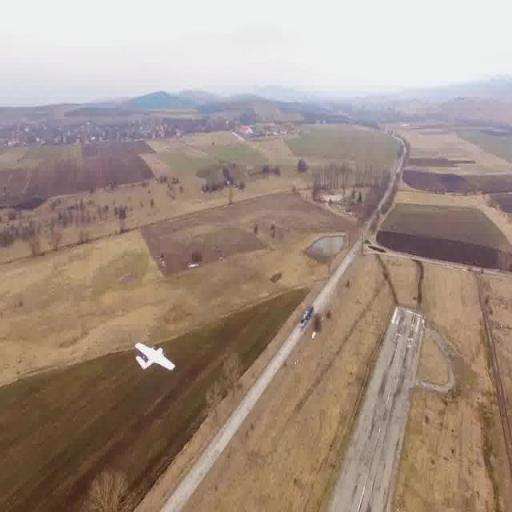uav: (129, 336, 178, 377)
